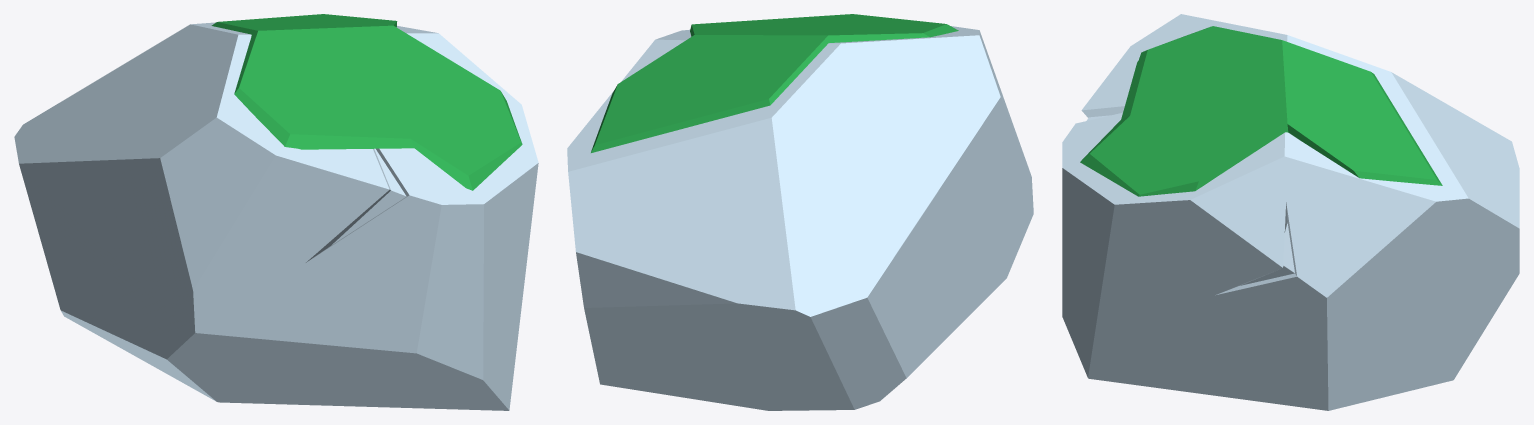
The model's file is Rock 3.fbx.
3 views of the same model, side by side, from view 1: azimuth 30°, elevation 25°; view 2: azimuth 150°, elevation 25°; view 3: azimuth 270°, elevation 25° (orthographic). The views are drawn at different scales.
Parts seen in each view (by area): view 1: Rock 3; view 2: Rock 3; view 3: Rock 3.
Part boxes in pixels (x1,y1,x2,y2): Rock 3: (14,14,538,410); Rock 3: (567,14,1033,410); Rock 3: (1062,14,1519,410).
Size of the model in its own units: 347 by 290 by 427.
